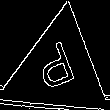P_S: (34, 37, 85, 98)
